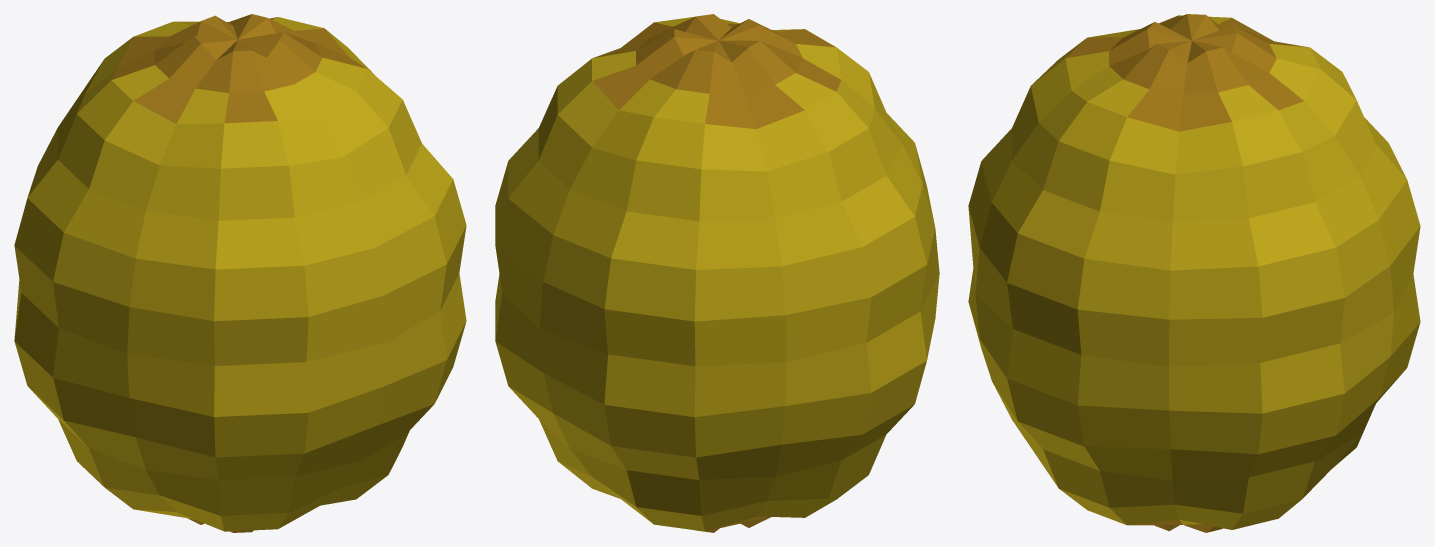
Rendered from ball-gold-0471f77b87c7.glb.
3 renders of one model, left to right at view 1: azimuth 30°, elevation 25°; view 2: azimuth 150°, elevation 25°; view 3: azimuth 270°, elevation 25°, orthographic.
Parts seen in each view (by area): view 1: Baseball.002; view 2: Baseball.002; view 3: Baseball.002.
Boxes of the visible parts, bbox=[...] form: Baseball.002: bbox=[14, 14, 466, 532]; Baseball.002: bbox=[495, 14, 939, 532]; Baseball.002: bbox=[968, 14, 1420, 532].
Size of the model in its own units: 0.8422 by 1 by 0.8509.
